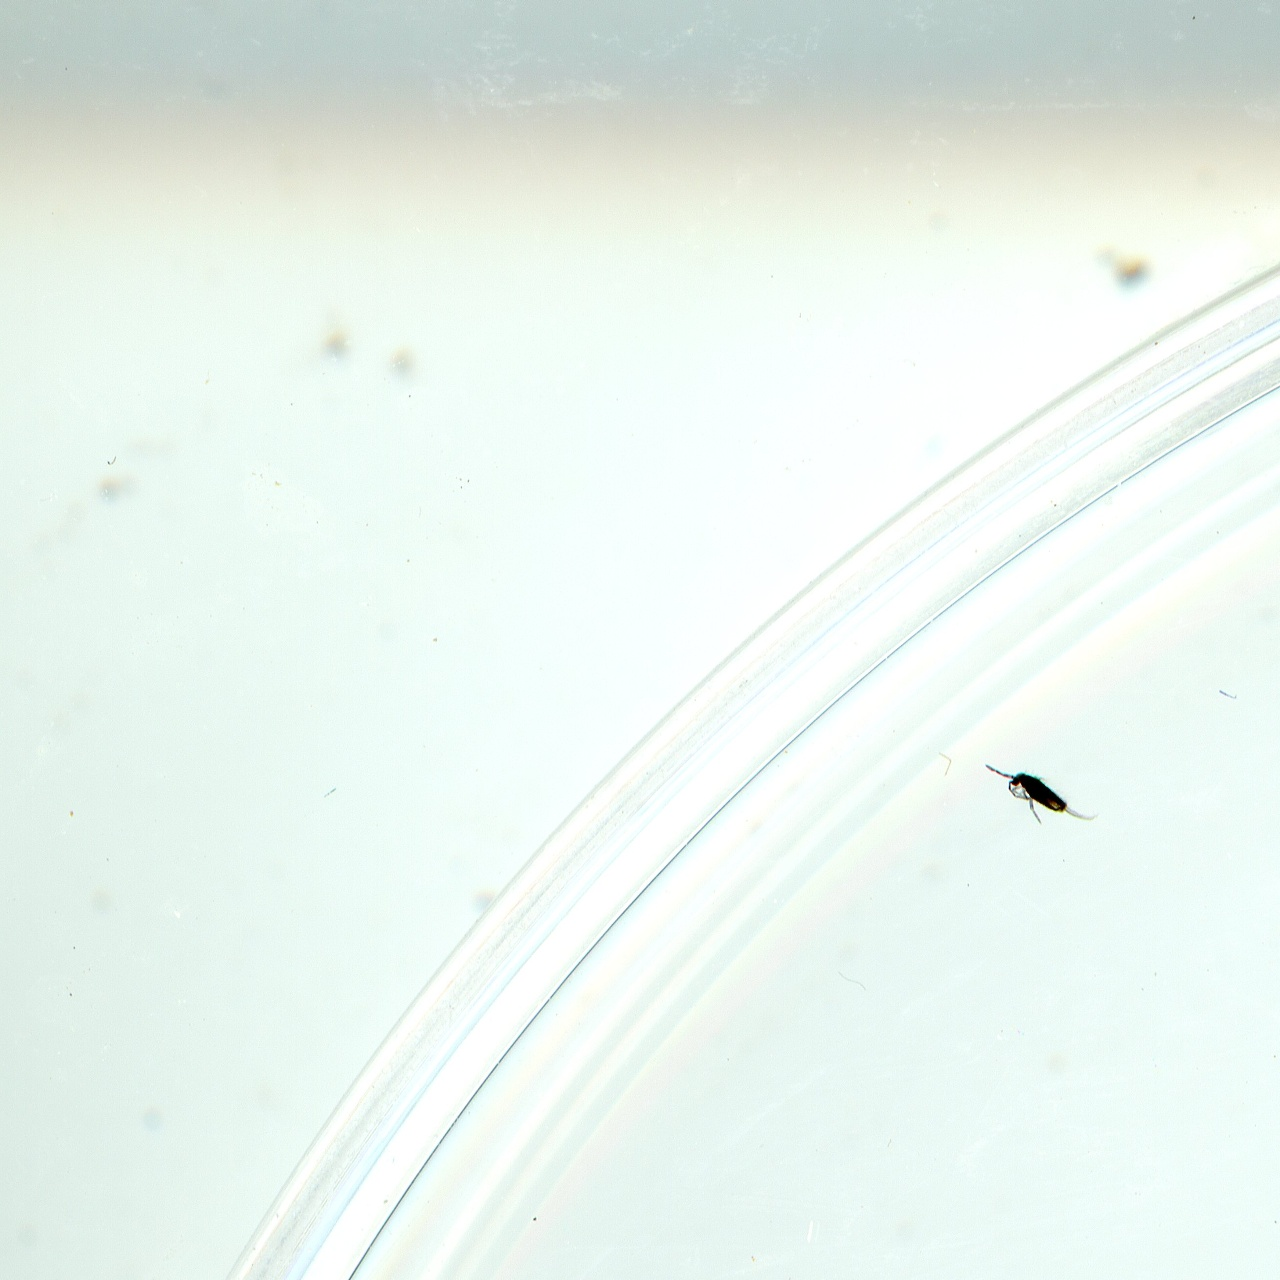arthropod: (976, 756, 1105, 829)
